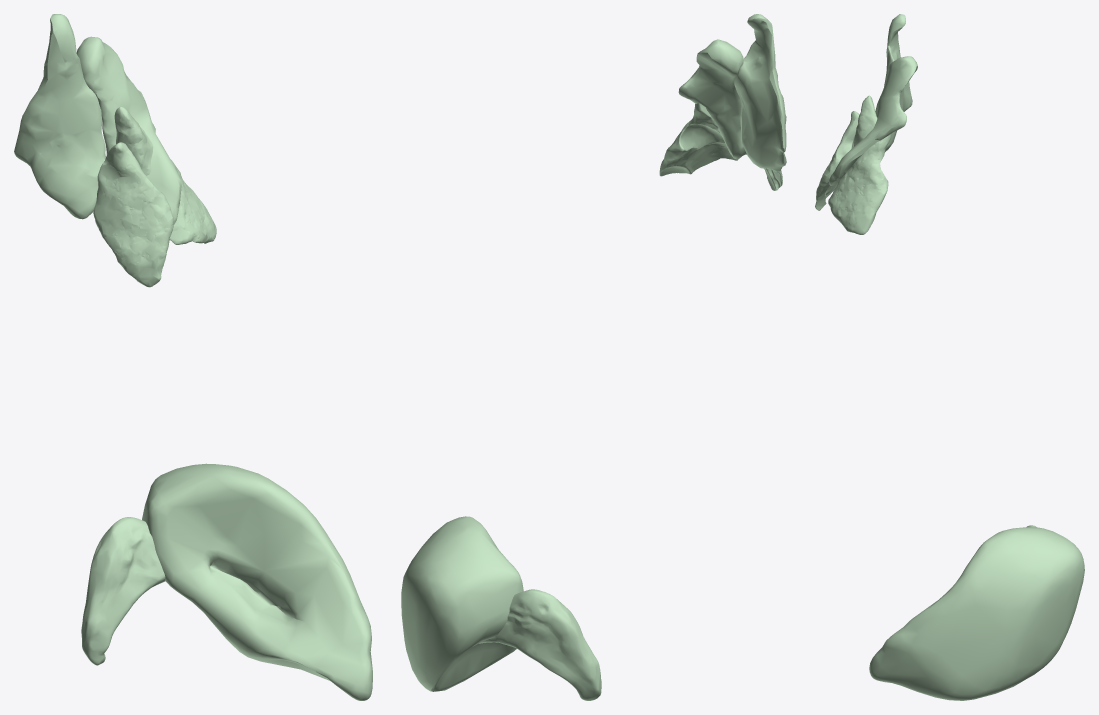
File: endocrine-thorax.hi.glb
3 views of the same model, side by side, from view 1: azimuth 30°, elevation 25°; view 2: azimuth 150°, elevation 25°; view 3: azimuth 270°, elevation 25° (orthographic). The views are drawn at different scales.
Visible parts, largest first — view 1: FJ2561, FJ3151, ZA-right-lobe-of-thymus, FJ3129, FJ3150, ZA-left-lobe-of-thymus; view 2: FJ2561, FJ3129, FJ3151, FJ3150, ZA-left-lobe-of-thymus; view 3: FJ2561, ZA-left-lobe-of-thymus, FJ3150, ZA-right-lobe-of-thymus, FJ3151.
Part boxes in pixels (bbox=[...]): FJ2561: bbox=[142, 463, 372, 700]; FJ3151: bbox=[14, 14, 105, 219]; ZA-right-lobe-of-thymus: bbox=[93, 142, 173, 287]; FJ3129: bbox=[81, 517, 165, 665]; FJ3150: bbox=[76, 36, 181, 224]; ZA-left-lobe-of-thymus: bbox=[114, 107, 216, 244]; FJ2561: bbox=[401, 516, 523, 691]; FJ3129: bbox=[479, 589, 601, 700]; FJ3151: bbox=[734, 14, 786, 171]; FJ3150: bbox=[678, 39, 746, 159]; ZA-left-lobe-of-thymus: bbox=[659, 103, 738, 176]; FJ2561: bbox=[869, 527, 1084, 700]; ZA-left-lobe-of-thymus: bbox=[828, 95, 891, 234]; FJ3150: bbox=[828, 56, 917, 185]; ZA-right-lobe-of-thymus: bbox=[815, 111, 859, 210]; FJ3151: bbox=[884, 14, 912, 151].
Bounding box in the file's own units: 0.1386 × 0.2781 × 0.1189.
